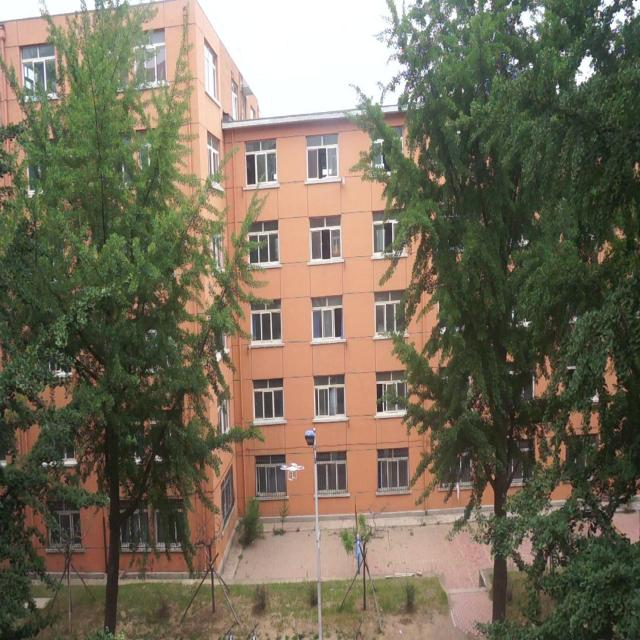UAV: (280, 462, 305, 481)
